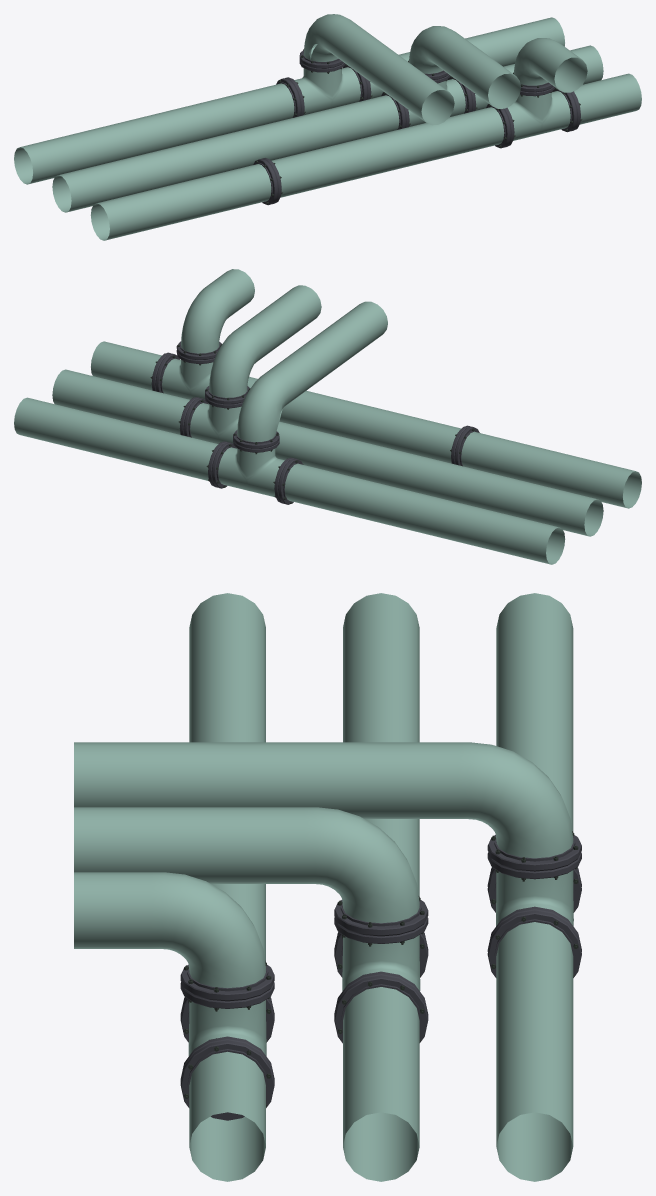
The model's file is PipeComplexLarge_A2_03.fbx.
3 views of the same model, one above another, from view 1: azimuth 30°, elevation 25°; view 2: azimuth 150°, elevation 25°; view 3: azimuth 270°, elevation 25° (orthographic). The views are drawn at different scales.
Visible parts, largest first — view 1: PipeComplexLarge_A2_03.001; view 2: PipeComplexLarge_A2_03.001; view 3: PipeComplexLarge_A2_03.001.
Part boxes in pixels (<box>): PipeComplexLarge_A2_03.001: <box>14,14,641,240</box>; PipeComplexLarge_A2_03.001: <box>14,269,641,564</box>; PipeComplexLarge_A2_03.001: <box>74,593,581,1181</box>.
Size of the model in its own units: 3.2 by 0.6225 by 1.32.
